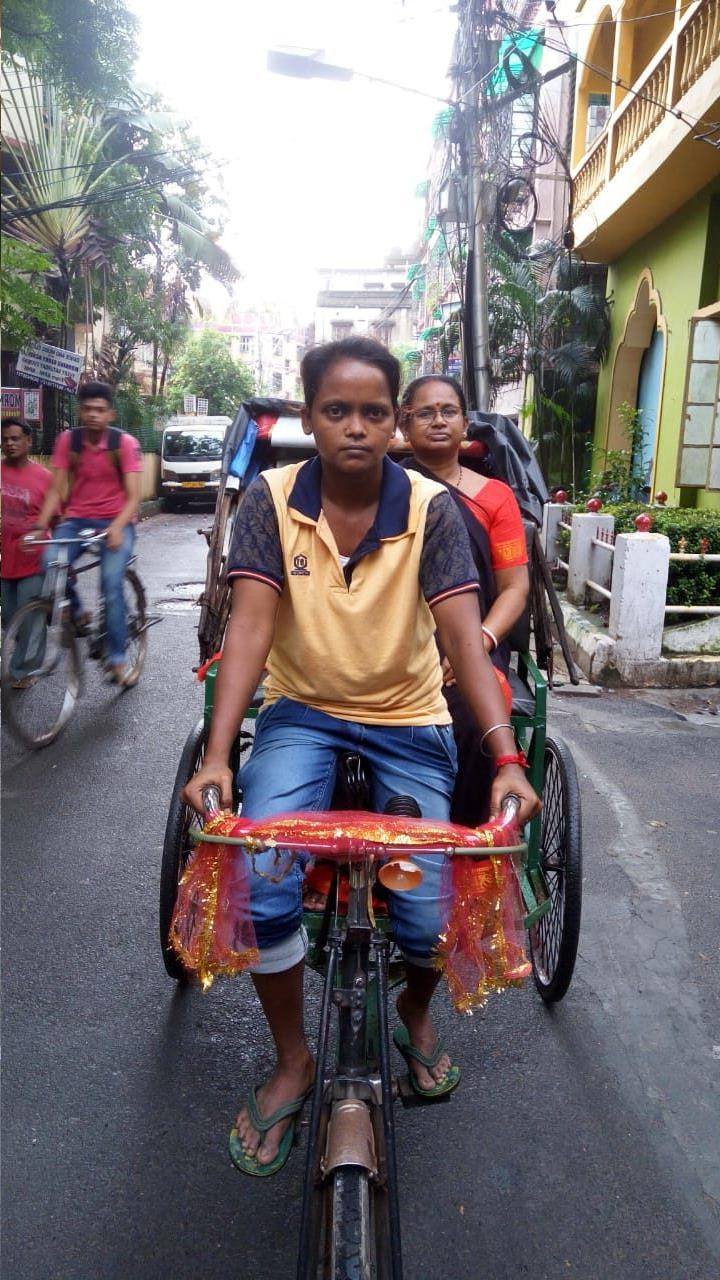Rickshaw: (179, 368, 601, 1162)
